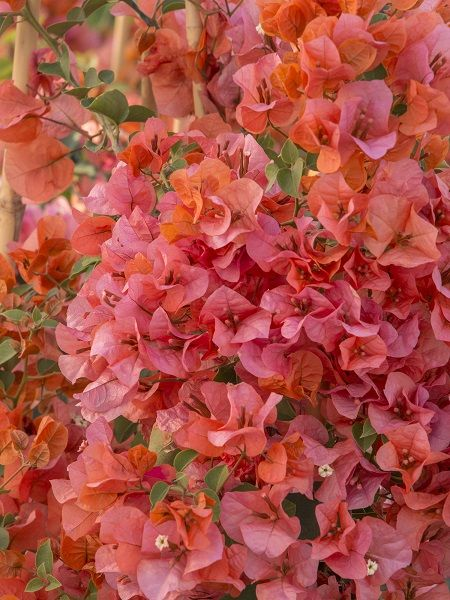rose: (2, 3, 450, 598), (199, 280, 420, 441)
